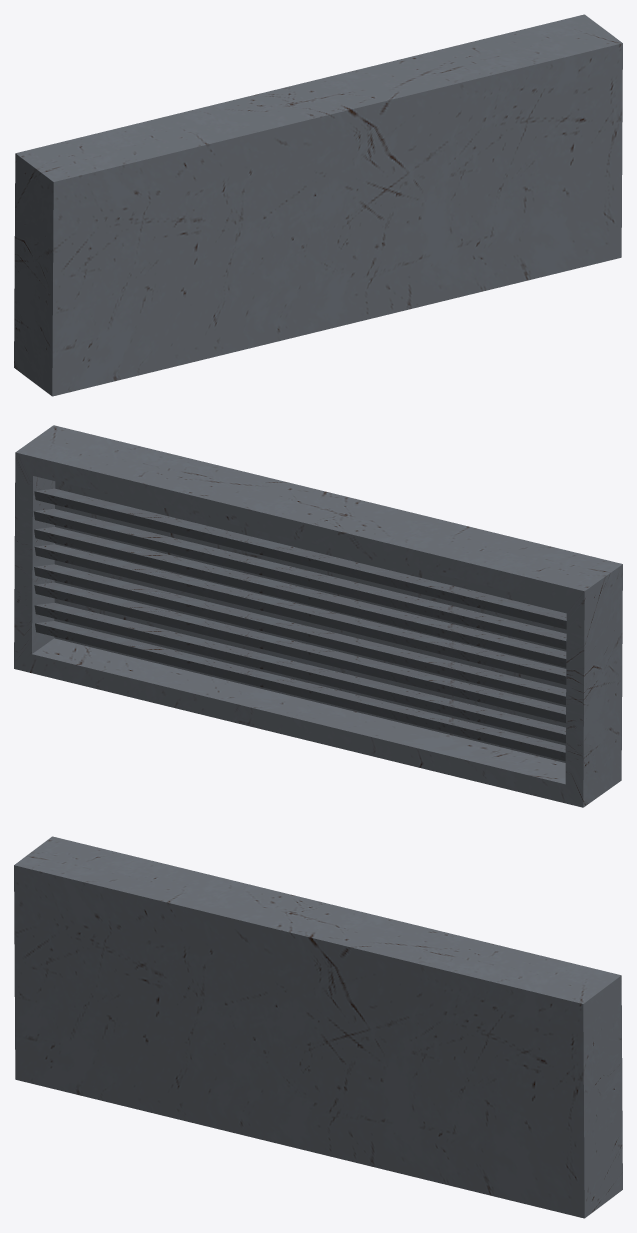
The model's file is vent01.fbx.
3 renders of one model, top to bottom at view 1: azimuth 30°, elevation 25°; view 2: azimuth 150°, elevation 25°; view 3: azimuth 330°, elevation 25°, orthographic.
Visible parts, largest first — view 1: PVC5.002; view 2: PVC5.002; view 3: PVC5.002.
Part boxes in pixels (x1=…): PVC5.002: x1=14, y1=14, x2=622, y2=396; PVC5.002: x1=14, y1=425, x2=622, y2=807; PVC5.002: x1=14, y1=836, x2=622, y2=1218.
Bounding box in the file's own units: 141 × 51.08 × 16.99.
